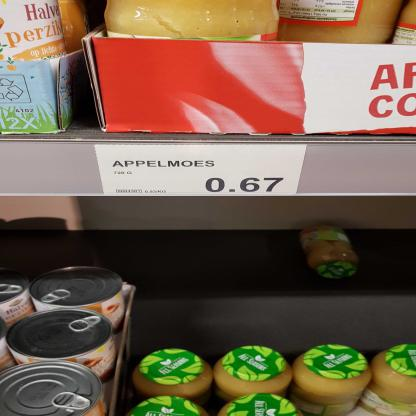prtg: (96, 146, 307, 196)
